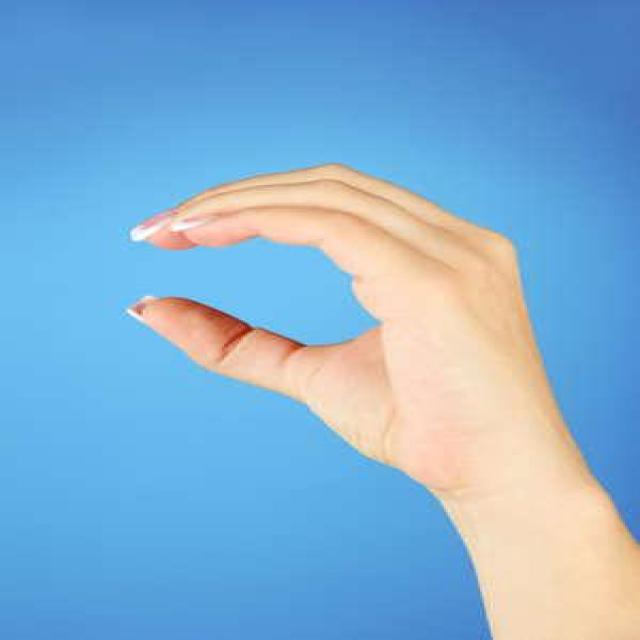C: (116, 156, 592, 490)
